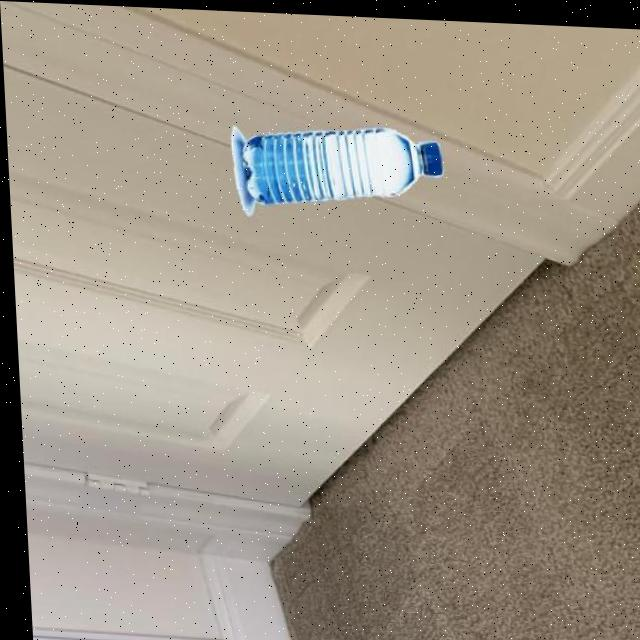bottle: (227, 116, 445, 222)
